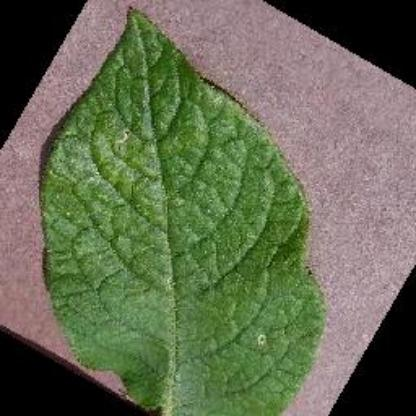Healthy-plant: (34, 3, 324, 415)
